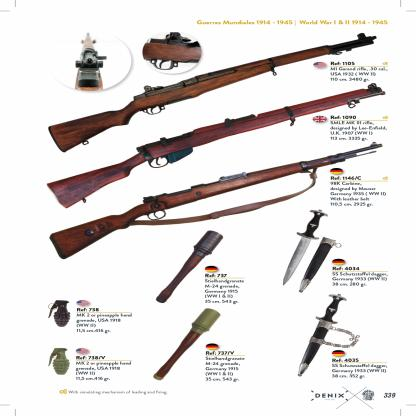Grenade: (154, 228, 224, 304), (152, 307, 223, 381), (47, 346, 72, 376), (48, 296, 71, 327)
Gun: (43, 84, 385, 210), (47, 31, 377, 155), (47, 140, 384, 260)
Knife: (296, 293, 362, 377), (282, 209, 342, 293)
